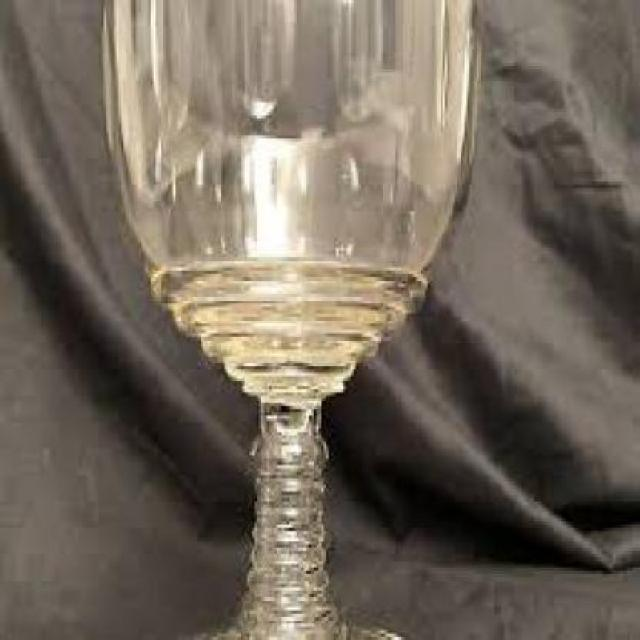kaca: (94, 0, 474, 637)
